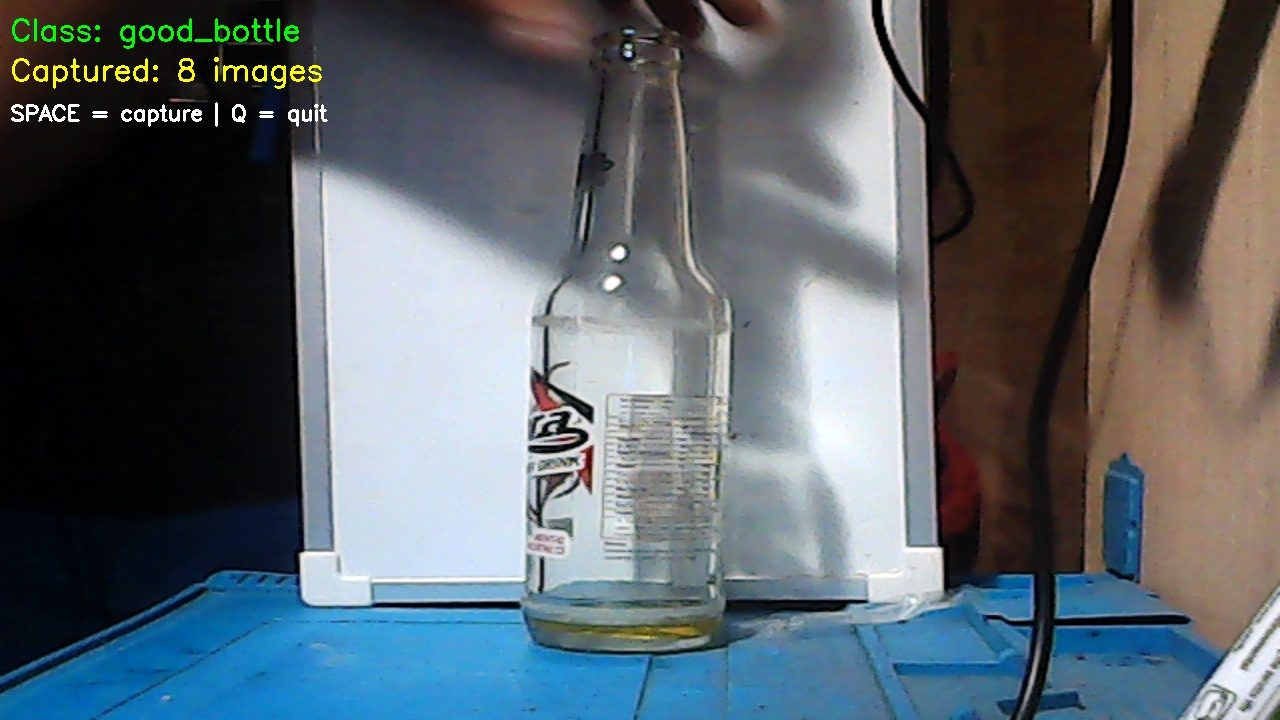good_bottle: (518, 36, 729, 654)
